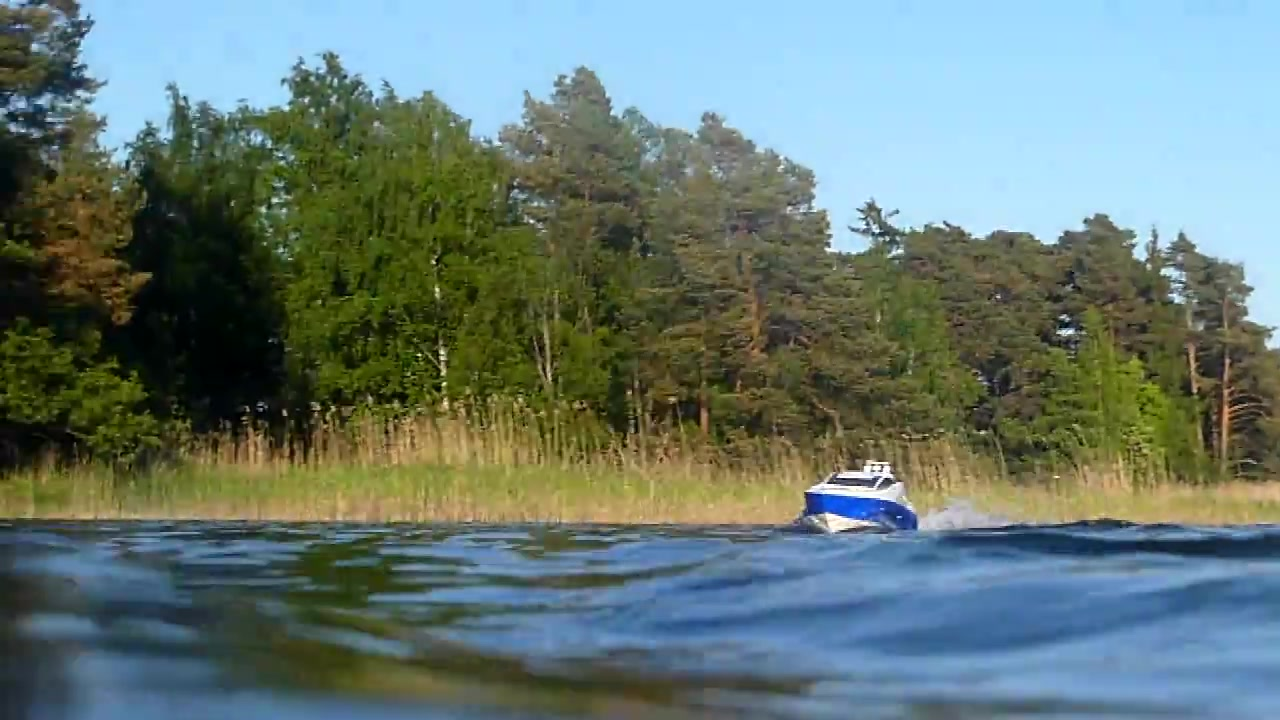boat: (798, 459, 924, 543)
